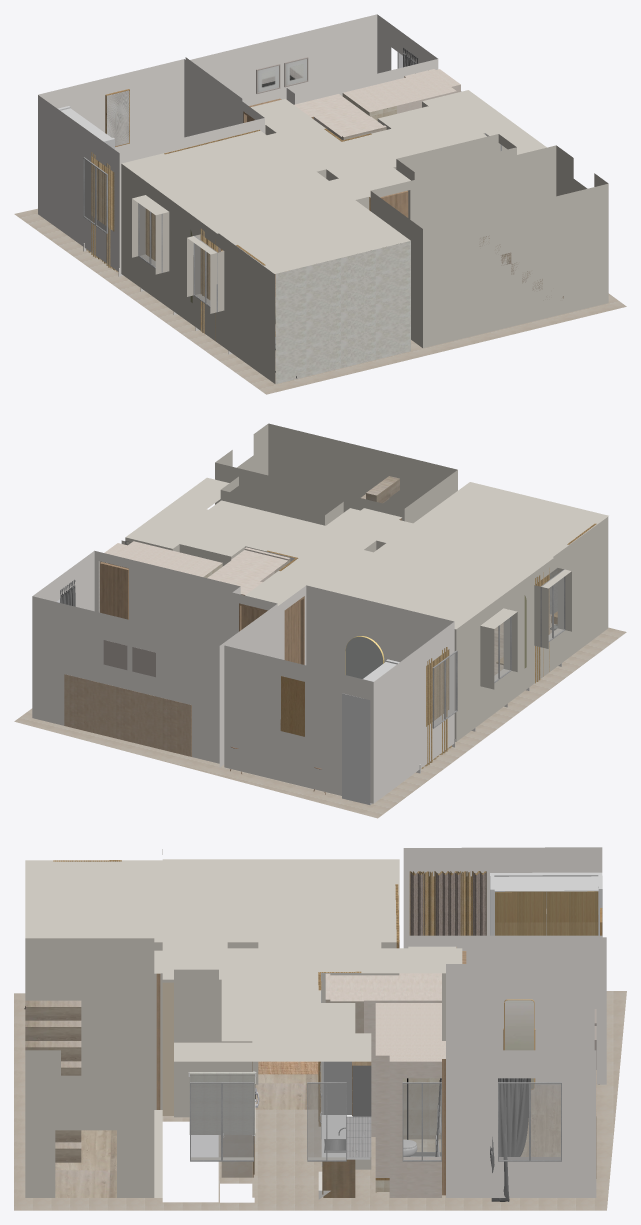
File: burgos-floor-1-room.glb
3 views of the same model, one above another, from view 1: azimuth 30°, elevation 25°; view 2: azimuth 150°, elevation 25°; view 3: azimuth 270°, elevation 25° (orthographic). The views are drawn at different scales.
Parts seen in each view (by area): view 1: S__4, S__24, S__15, S__1, S__5, P92__558, P224__2297, P224__2300, P207__2171, P208__2177; view 2: S__4, S__24, S__1, S__2274, S__5, S__2651, S__3085, P92__560, P93__562, S__4453, S__360, P224__2300 (+6 smaller); view 3: S__4, S__24, S__1, S__5, S__18, P186__2010, S__392, S__17, P209__2181, P240__2539, P240__2542, P209__2184 (+30 smaller).
Part boxes in pixels (bbox=[...]): S__4: bbox=[121, 90, 608, 383]; S__24: bbox=[38, 14, 438, 272]; S__15: bbox=[275, 241, 410, 383]; S__1: bbox=[14, 127, 626, 394]; S__5: bbox=[294, 69, 460, 136]; P92__558: bbox=[107, 90, 129, 146]; P224__2297: bbox=[96, 168, 106, 231]; P224__2300: bbox=[84, 159, 94, 223]; P207__2171: bbox=[139, 204, 149, 262]; P208__2177: bbox=[194, 244, 204, 301]; S__4: bbox=[121, 423, 608, 741]; S__24: bbox=[32, 550, 454, 803]; S__1: bbox=[14, 558, 626, 818]; S__2274: bbox=[64, 674, 191, 756]; S__5: bbox=[104, 541, 289, 594]; S__2651: bbox=[342, 693, 365, 803]; S__3085: bbox=[100, 561, 128, 619]; P92__560: bbox=[280, 676, 304, 736]; P93__562: bbox=[345, 637, 382, 678]; S__4453: bbox=[284, 596, 304, 664]; S__360: bbox=[426, 658, 432, 765]; P224__2300: bbox=[434, 661, 444, 726]; S__4: bbox=[25, 849, 462, 1197]; S__24: bbox=[403, 847, 606, 1197]; S__1: bbox=[14, 991, 626, 1210]; S__5: bbox=[325, 973, 445, 1197]; S__18: bbox=[55, 1074, 560, 1197]; P186__2010: bbox=[189, 1075, 254, 1134]; S__392: bbox=[490, 1078, 530, 1201]; S__17: bbox=[375, 1078, 441, 1191]; P209__2181: bbox=[190, 1083, 221, 1160]; P240__2539: bbox=[498, 1083, 529, 1160]; P240__2542: bbox=[530, 1083, 561, 1160]; P209__2184: bbox=[222, 1083, 252, 1160].
Bounding box in the file's own units: 9.27 × 3.03 × 10.92.
Materials: 121 (80 with a texture image).
